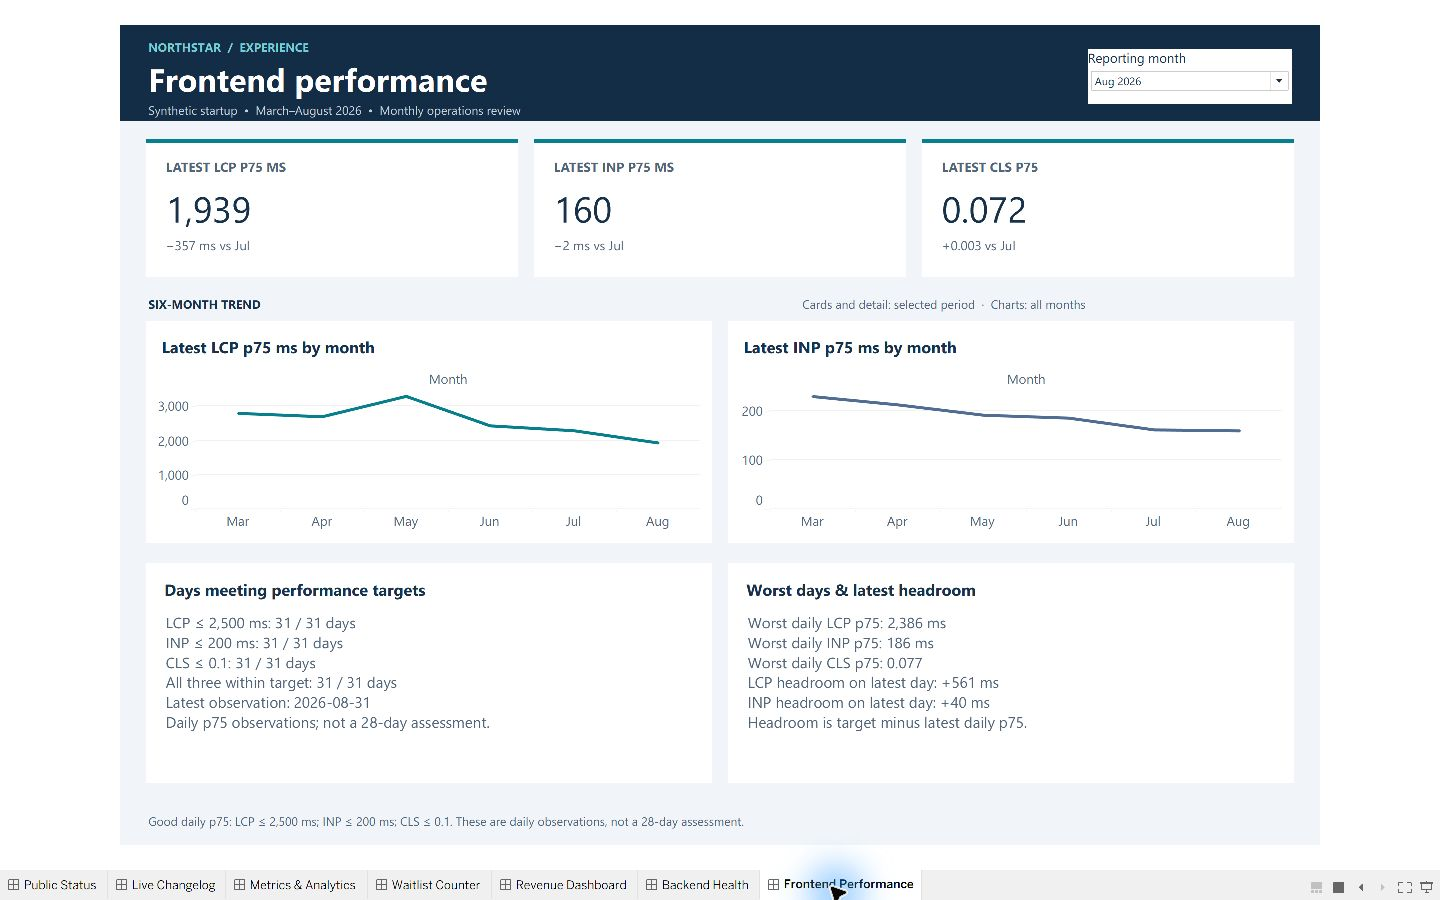

This screenshot's page, from the dashboard's own definition file:
{"tool":"tableau","page":{"name":"Frontend Performance","canvas":[1200,820],"ordinal":1},"visuals":[{"type":"text","box":[0,0,1200,820]},{"type":"text","box":[0,0,1200,96]},{"type":"text","box":[26,12,800,20]},{"type":"parameter","param":"[Parameters].[Period]","box":[968,24,204,55]},{"type":"text","box":[26,34,830,40]},{"type":"text","box":[26,76,840,18]},{"type":"text","box":[26,114,372,138]},{"type":"text","box":[26,114,372,4]},{"type":"text","box":[414,114,372,138]},{"type":"text","box":[414,114,372,4]},{"type":"text","box":[802,114,372,138]},{"type":"text","box":[802,114,372,4]},{"type":"worksheet","title":"07 KPI 1 Latest LCP p75 ms","mark":"Text","box":[42,129,340,74]},{"type":"worksheet","title":"07 KPI 2 Latest INP p75 ms","mark":"Text","box":[430,129,340,74]},{"type":"worksheet","title":"07 KPI 3 Latest CLS p75","mark":"Text","box":[818,129,340,74]},{"type":"worksheet","title":"D07 delta 1","mark":"Text","box":[42,211,340,29]},{"type":"worksheet","title":"D07 delta 2","mark":"Text","box":[430,211,340,29]},{"type":"worksheet","title":"D07 delta 3","mark":"Text","box":[818,211,340,29]},{"type":"text","box":[26,268,500,22]},{"type":"text","box":[680,268,492,22]},{"type":"text","box":[26,296,566,222]},{"type":"text","box":[608,296,566,222]},{"type":"worksheet","title":"07 Trend 1","mark":"Line","rows":["t_lcp"],"cols":["Month"],"box":[38,307,542,199]},{"type":"worksheet","title":"07 Trend 2","mark":"Line","rows":["t_inp"],"cols":["Month"],"box":[620,307,542,199]},{"type":"text","box":[26,538,566,220]},{"type":"text","box":[608,538,566,220]},{"type":"text","box":[42,551,534,28]},{"type":"text","box":[624,551,534,28]},{"type":"worksheet","title":"D07 detail 1","mark":"Text","box":[42,587,534,157]},{"type":"worksheet","title":"D07 detail 2","mark":"Text","box":[624,587,534,157]},{"type":"text","box":[26,776,1144,40]}]}

Visuals, with their boxes on the page's 1200x820 design canvas (x1, y1, x2, y2). These are canvas units, not pixel positions in the 1440x900 screenshot, which may show the page scaled, cropped or inside an application window:
text: [left=0, top=0, right=1200, bottom=820]
text: [left=0, top=0, right=1200, bottom=96]
text: [left=26, top=12, right=826, bottom=32]
parameter: [left=968, top=24, right=1172, bottom=79]
text: [left=26, top=34, right=856, bottom=74]
text: [left=26, top=76, right=866, bottom=94]
text: [left=26, top=114, right=398, bottom=252]
text: [left=26, top=114, right=398, bottom=118]
text: [left=414, top=114, right=786, bottom=252]
text: [left=414, top=114, right=786, bottom=118]
text: [left=802, top=114, right=1174, bottom=252]
text: [left=802, top=114, right=1174, bottom=118]
"07 KPI 1 Latest LCP p75 ms" worksheet (Text marks): [left=42, top=129, right=382, bottom=203]
"07 KPI 2 Latest INP p75 ms" worksheet (Text marks): [left=430, top=129, right=770, bottom=203]
"07 KPI 3 Latest CLS p75" worksheet (Text marks): [left=818, top=129, right=1158, bottom=203]
"D07 delta 1" worksheet (Text marks): [left=42, top=211, right=382, bottom=240]
"D07 delta 2" worksheet (Text marks): [left=430, top=211, right=770, bottom=240]
"D07 delta 3" worksheet (Text marks): [left=818, top=211, right=1158, bottom=240]
text: [left=26, top=268, right=526, bottom=290]
text: [left=680, top=268, right=1172, bottom=290]
text: [left=26, top=296, right=592, bottom=518]
text: [left=608, top=296, right=1174, bottom=518]
"07 Trend 1" worksheet (Line marks): [left=38, top=307, right=580, bottom=506]
"07 Trend 2" worksheet (Line marks): [left=620, top=307, right=1162, bottom=506]
text: [left=26, top=538, right=592, bottom=758]
text: [left=608, top=538, right=1174, bottom=758]
text: [left=42, top=551, right=576, bottom=579]
text: [left=624, top=551, right=1158, bottom=579]
"D07 detail 1" worksheet (Text marks): [left=42, top=587, right=576, bottom=744]
"D07 detail 2" worksheet (Text marks): [left=624, top=587, right=1158, bottom=744]
text: [left=26, top=776, right=1170, bottom=816]
